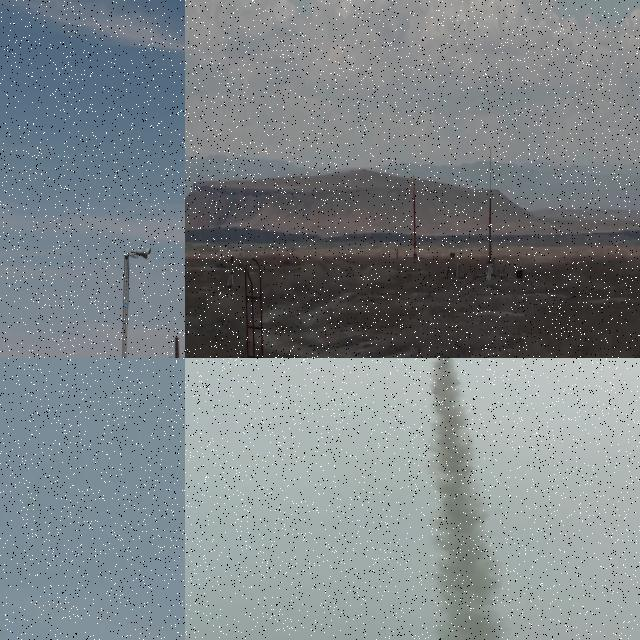Rocket: (412, 174, 418, 249), (487, 193, 492, 259)
